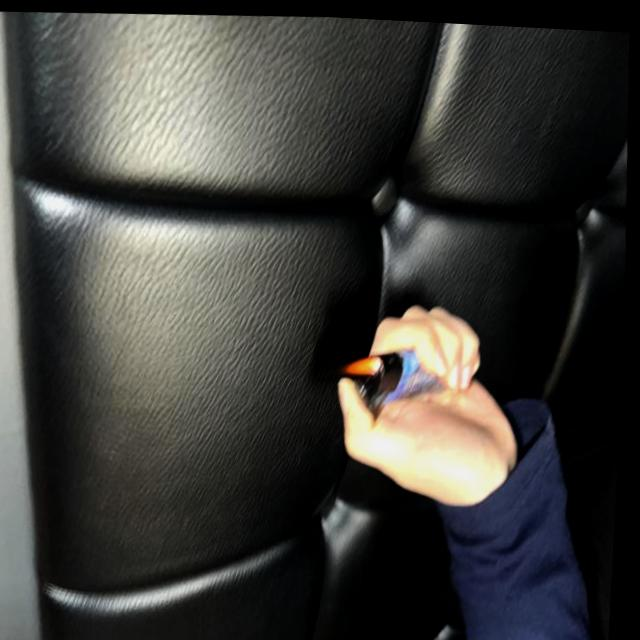Fire: (345, 351, 385, 376)
